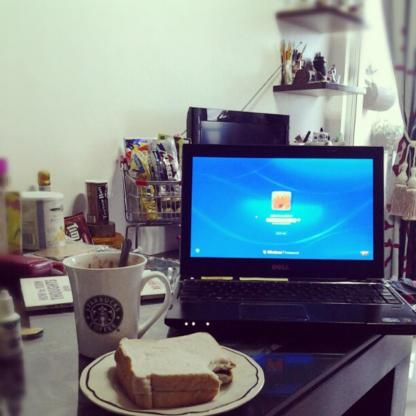board: (184, 143, 396, 319), (0, 287, 23, 364)
